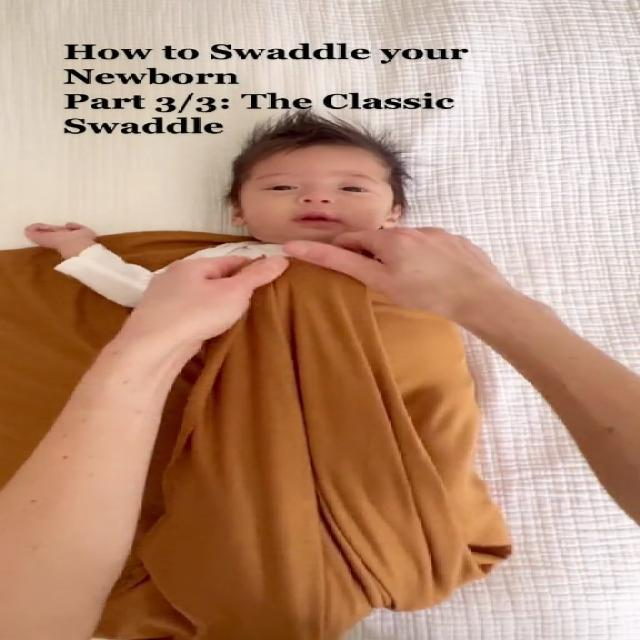baby: (22, 119, 526, 640)
